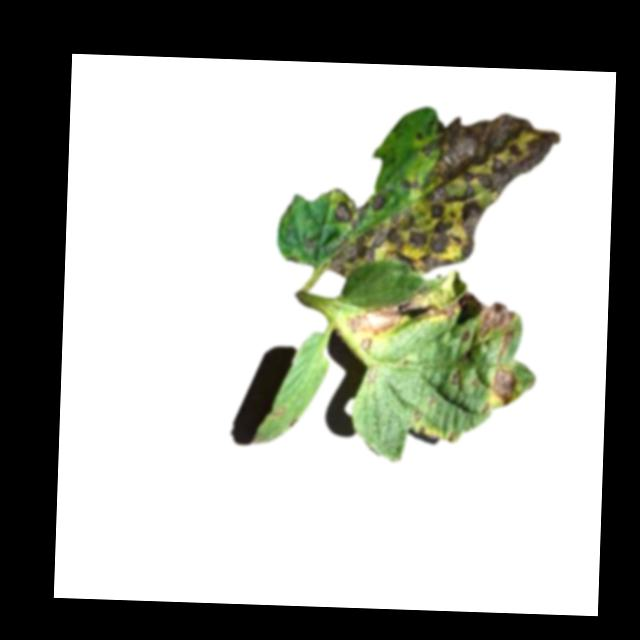Early_blight: (328, 108, 561, 283), (345, 295, 414, 352), (477, 300, 516, 338), (413, 295, 459, 323), (488, 365, 517, 409), (496, 331, 515, 364), (448, 368, 460, 386)
